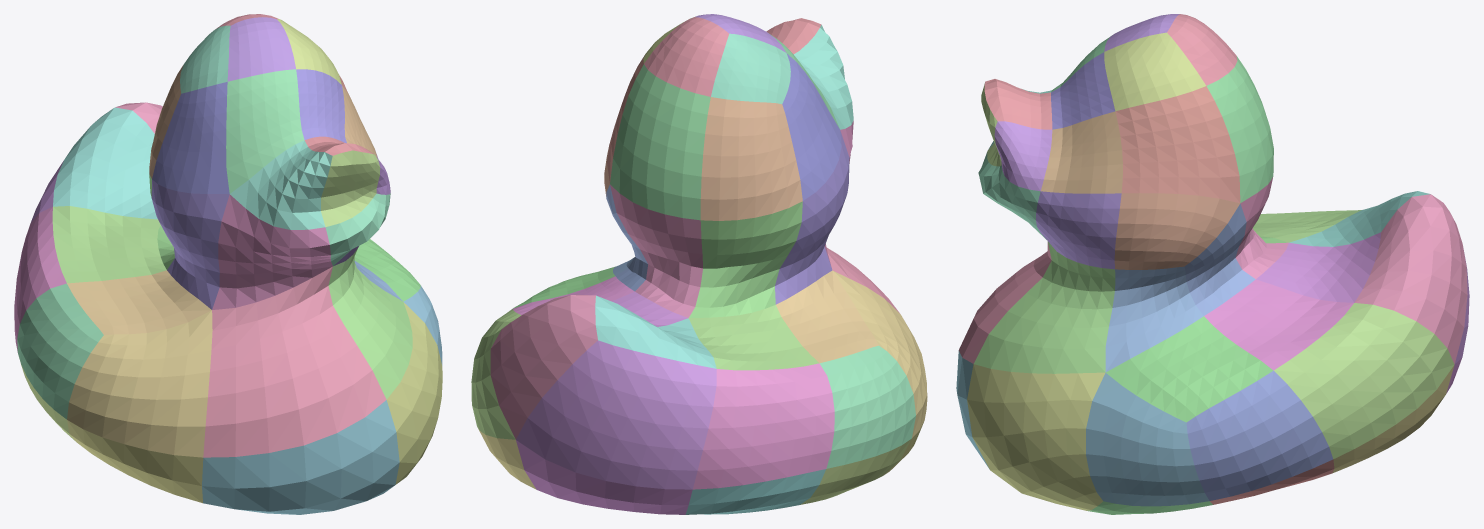
File: duck_quad1_patch_color.obj
3 views of the same model, side by side, from view 1: azimuth 30°, elevation 25°; view 2: azimuth 150°, elevation 25°; view 3: azimuth 270°, elevation 25° (orthographic). The views are drawn at different scales.
Bounding box in the file's own units: 70.19 × 78.71 × 81.76.
